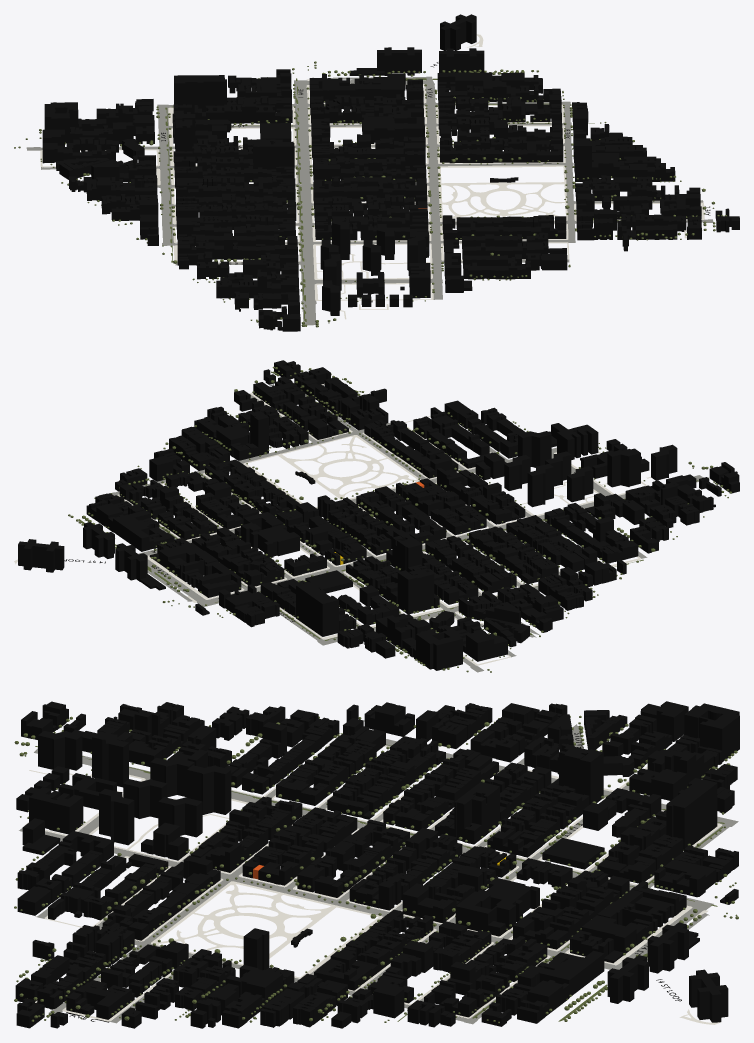
Rendered from east_village_pair.glb.
3 renders of one model, top to bottom at view 1: azimuth 30°, elevation 25°; view 2: azimuth 150°, elevation 25°; view 3: azimuth 270°, elevation 25°, orthographic. The views are drawn at different scales.
Visible parts, largest first — view 1: EV_MASSING, ROADBED, SIDEWALK, TREES, MEDIAN; view 2: EV_MASSING, SIDEWALK, ROADBED, TREES; view 3: EV_MASSING, SIDEWALK, ROADBED, TREES, MEDIAN.
Part boxes in pixels (x1,y1,x2,y2): EV_MASSING: [42, 14, 739, 331]; ROADBED: [26, 76, 713, 325]; SIDEWALK: [40, 34, 704, 319]; TREES: [14, 61, 726, 327]; MEDIAN: [165, 78, 594, 326]; EV_MASSING: [18, 360, 739, 670]; SIDEWALK: [14, 383, 650, 665]; ROADBED: [112, 393, 703, 672]; TREES: [68, 366, 731, 672]; EV_MASSING: [15, 701, 739, 1028]; SIDEWALK: [24, 734, 722, 1024]; ROADBED: [19, 724, 738, 1024]; TREES: [14, 715, 738, 1023]; MEDIAN: [35, 727, 724, 1021].
Size of what is drawn, in the model's own units: 906 by 70.05 by 901.
